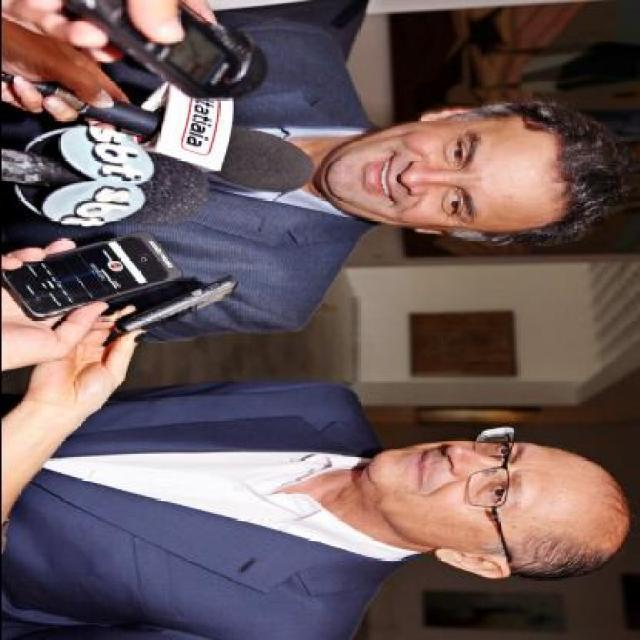phone: (1, 233, 184, 321)
